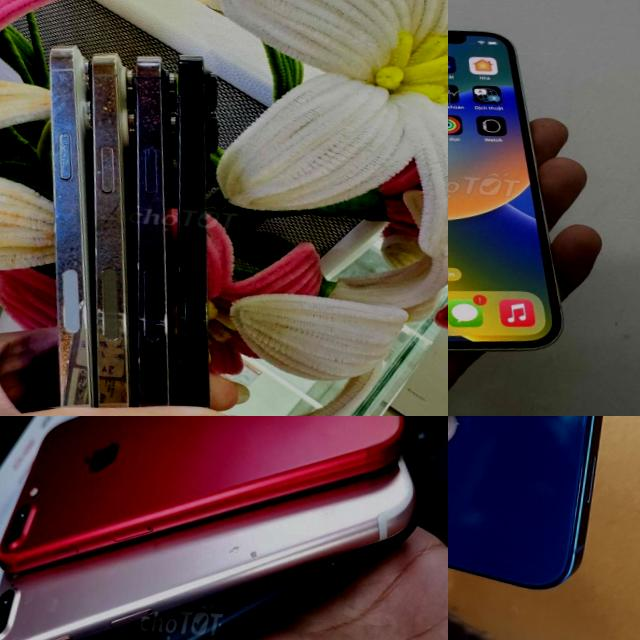scratch: (50, 157, 90, 275), (132, 199, 176, 303), (84, 68, 126, 150), (127, 70, 173, 144), (44, 54, 78, 140), (90, 198, 126, 270), (222, 530, 272, 572)
